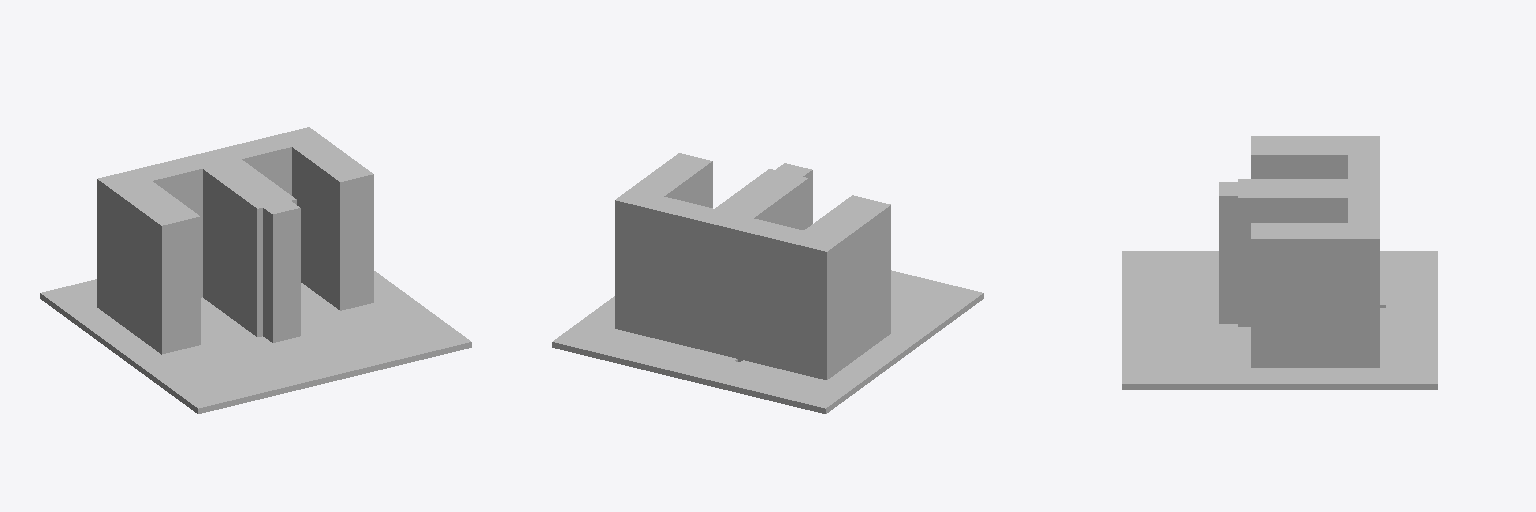
Rendered from Basic Reid.obj.
3 views of the same model, side by side, from view 1: azimuth 30°, elevation 25°; view 2: azimuth 150°, elevation 25°; view 3: azimuth 270°, elevation 25° (orthographic).
Parts seen in each view (by area): view 1: object 1; view 2: object 1; view 3: object 1.
Boxes of the visible parts, box(x1,y1,x2,y2) form: object 1: box(40, 127, 471, 413); object 1: box(552, 153, 983, 413); object 1: box(1122, 136, 1437, 389).
Bounding box in the file's own units: 4.9 × 2.3 × 4.9.